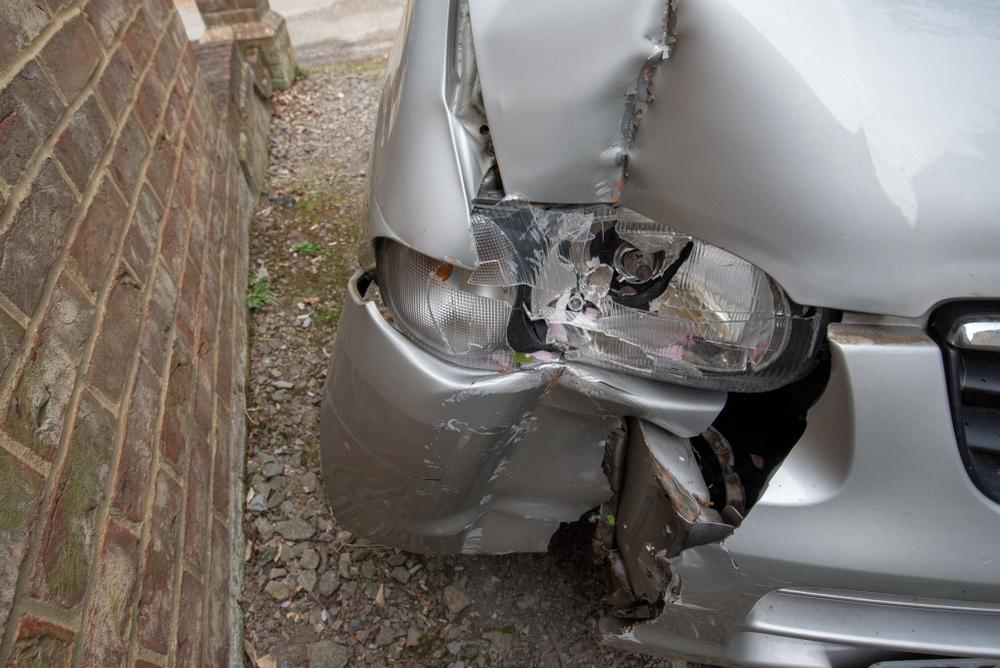crack: (542, 397, 808, 642)
dent: (485, 0, 734, 230), (420, 367, 618, 555)
lamp broken: (376, 194, 795, 391)
